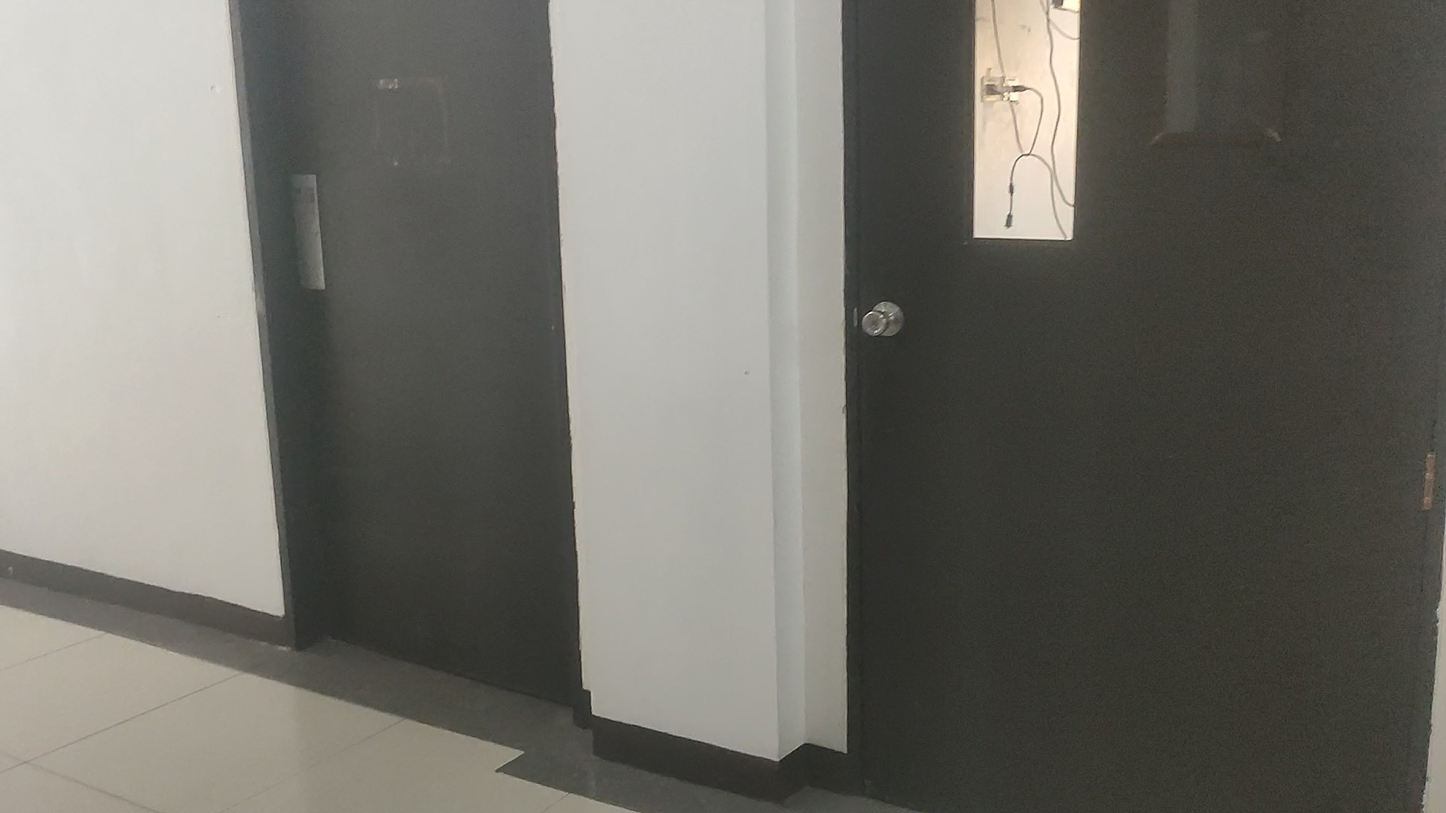door: (837, 0, 1446, 813), (221, 0, 589, 720)
